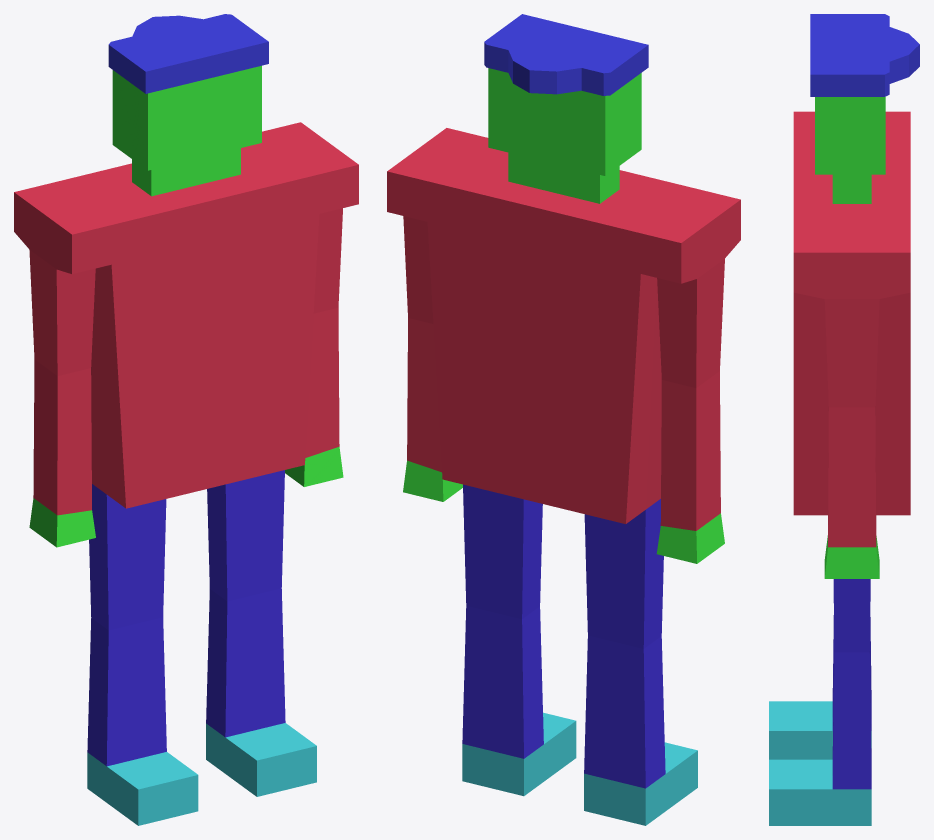
Rendered from Human_Civ 2.fbx.
The picture shows the model from 3 angles, left to right: view 1: azimuth 30°, elevation 25°; view 2: azimuth 150°, elevation 25°; view 3: azimuth 270°, elevation 25°; orthographic projection. The views are drawn at different scales.
Visible parts, largest first — view 1: Human_Civ 2; view 2: Human_Civ 2; view 3: Human_Civ 2.
Part boxes in pixels (bbox=[...]): Human_Civ 2: bbox=[14, 14, 358, 825]; Human_Civ 2: bbox=[387, 14, 740, 825]; Human_Civ 2: bbox=[769, 14, 919, 825].
Size of the model in its own units: 70.61 by 172 by 31.9.
